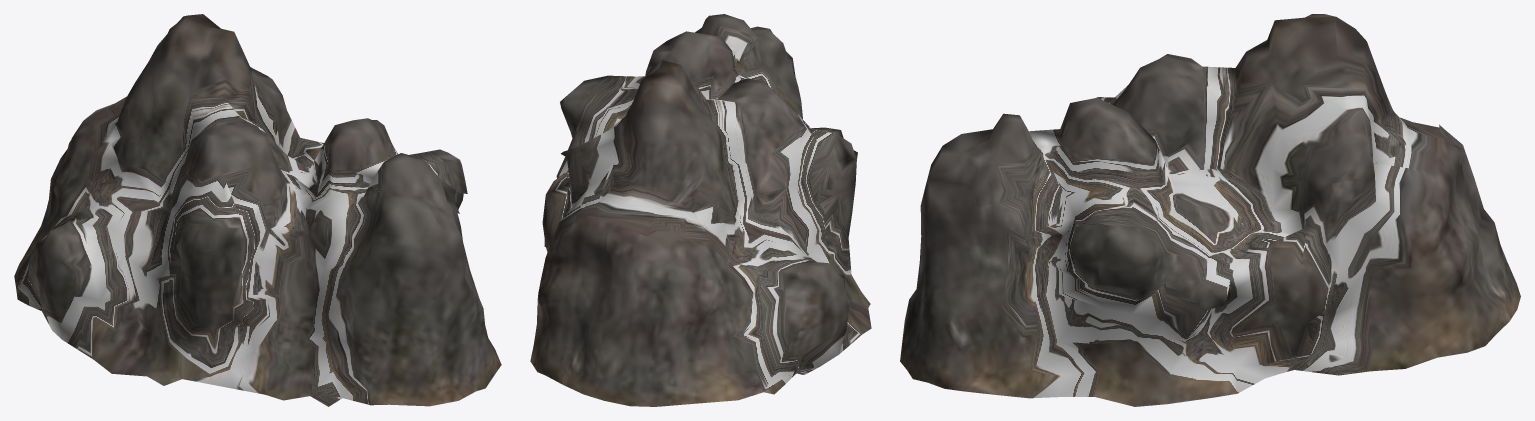
Rendered from far_rock1.glb.
3 views of the same model, side by side, from view 1: azimuth 30°, elevation 25°; view 2: azimuth 150°, elevation 25°; view 3: azimuth 270°, elevation 25° (orthographic). The views are drawn at different scales.
Size of the model in its own units: 21.68 by 16.01 by 28.99.
Materials: 1 (1 with a texture image).
